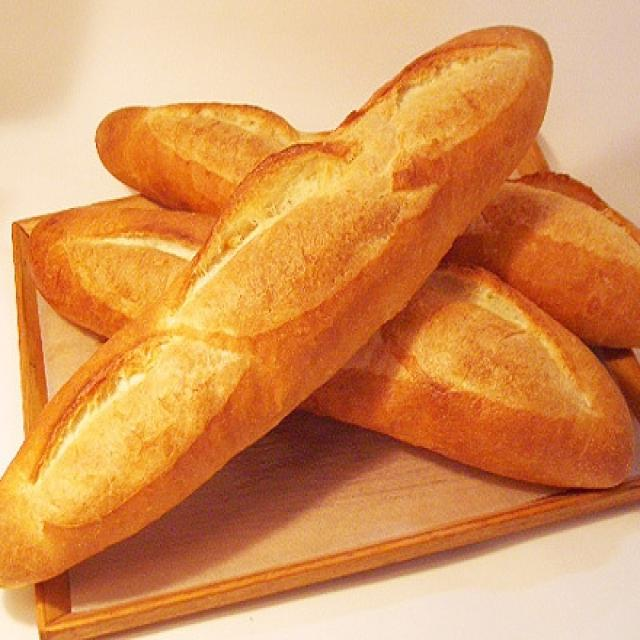面包点心: (2, 7, 636, 635)
